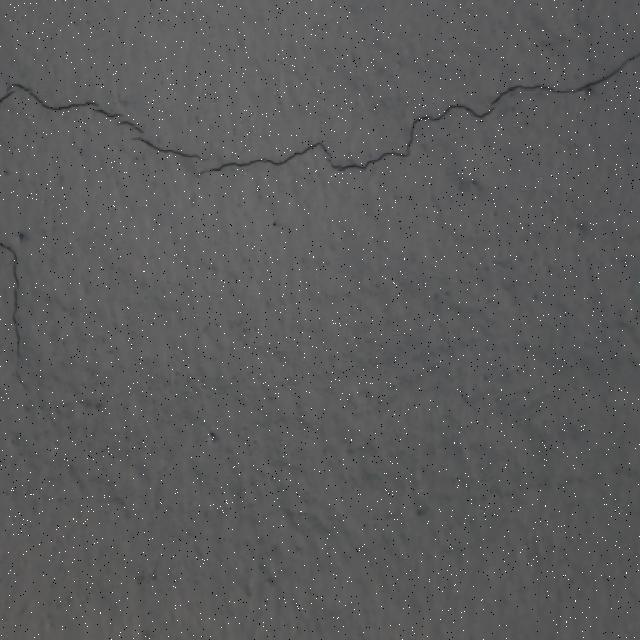minor crack: (6, 82, 295, 172), (455, 81, 546, 112), (14, 92, 119, 116), (129, 132, 200, 157)
moderate crack: (345, 106, 472, 165), (545, 43, 638, 94), (2, 236, 23, 377)
severe crack: (327, 158, 374, 170)
